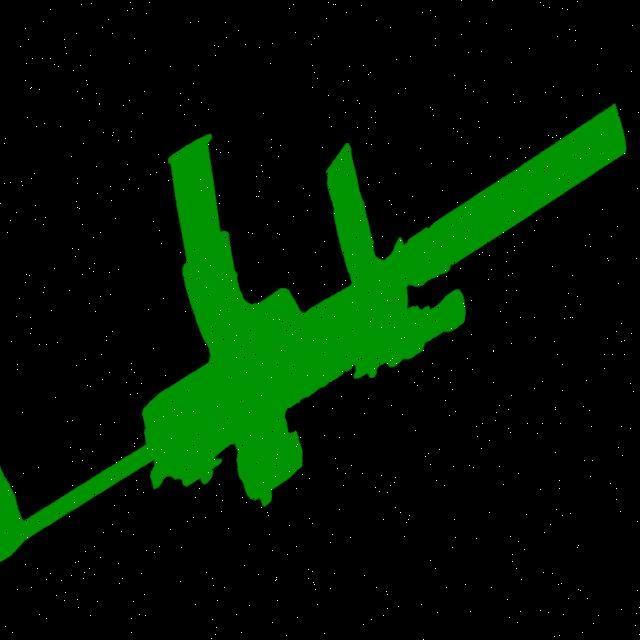firearm: (0, 61, 637, 607)
